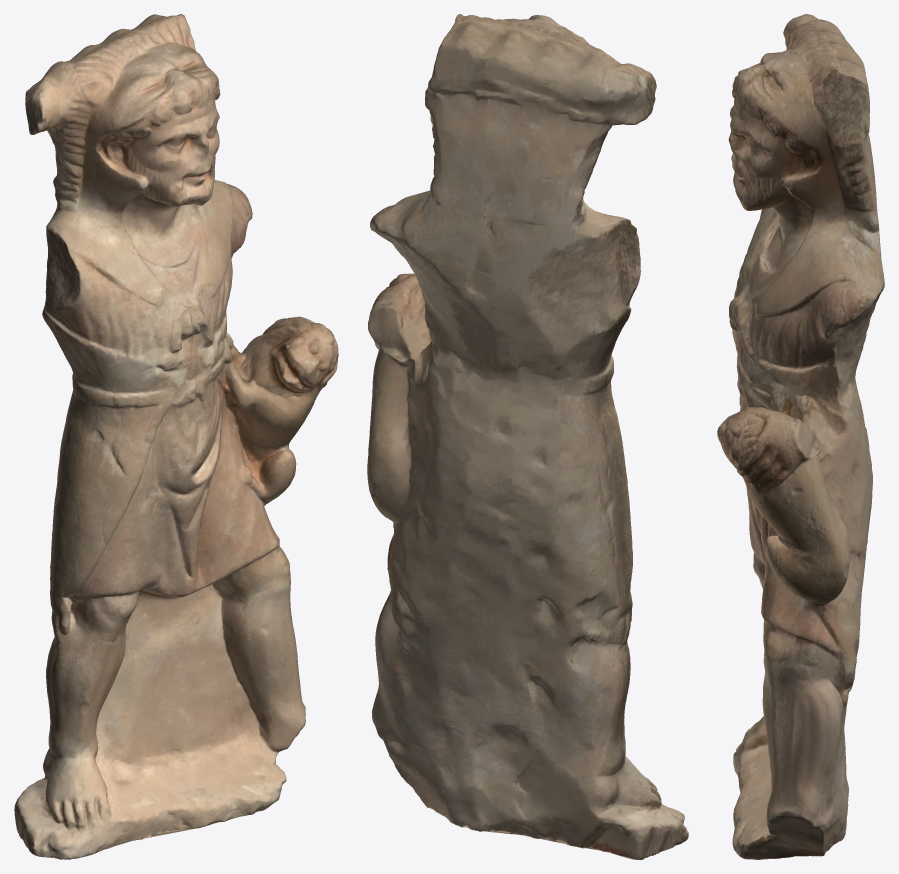
Rendered from preview.glb.
The picture shows the model from 3 angles, left to right: view 1: azimuth 30°, elevation 25°; view 2: azimuth 150°, elevation 25°; view 3: azimuth 270°, elevation 25°; orthographic projection. The views are drawn at different scales.
Parts seen in each view (by area): view 1: _n3d; view 2: _n3d; view 3: _n3d.
Part boxes in pixels (x1=…): _n3d: x1=14, y1=14, x2=338, y2=859; _n3d: x1=367, y1=14, x2=688, y2=859; _n3d: x1=717, y1=14, x2=884, y2=859.
Size of the model in its own units: 0.1844 by 0.4563 by 0.0897.
Materials: 1 (1 with a texture image).
